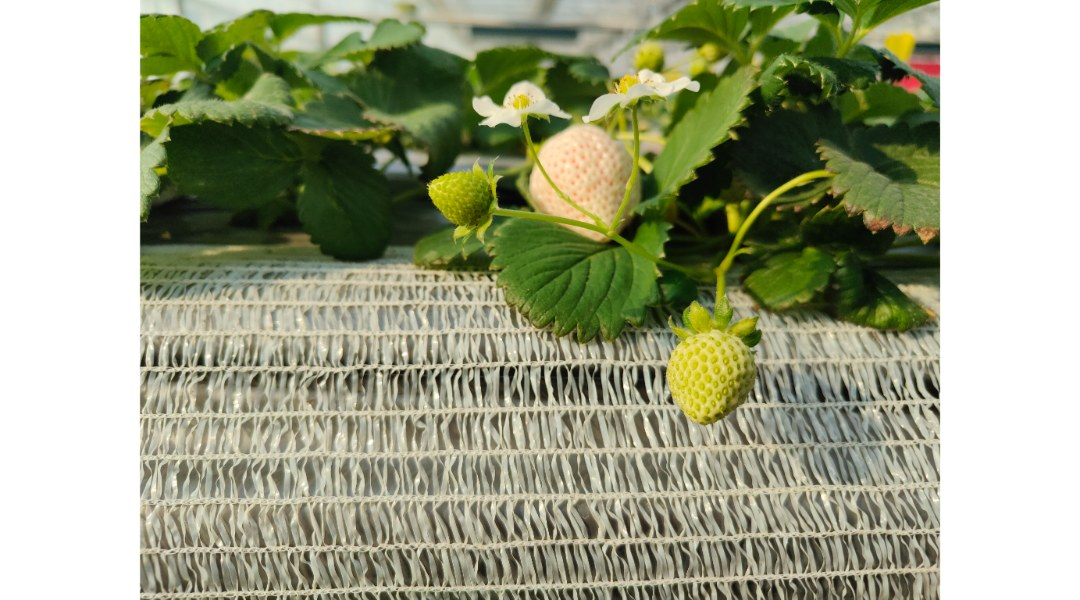berry: (525, 117, 646, 251), (663, 294, 770, 430), (419, 155, 510, 248)
flower: (571, 66, 708, 113), (466, 78, 572, 135)
strain: (725, 171, 832, 255)
